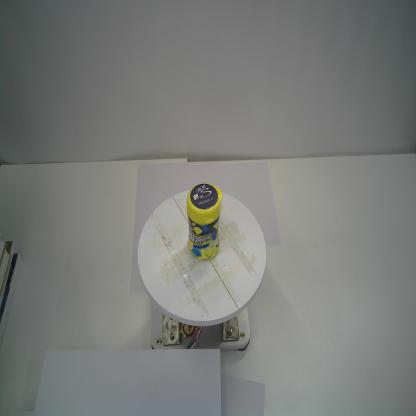Gum: (186, 183, 223, 261)
